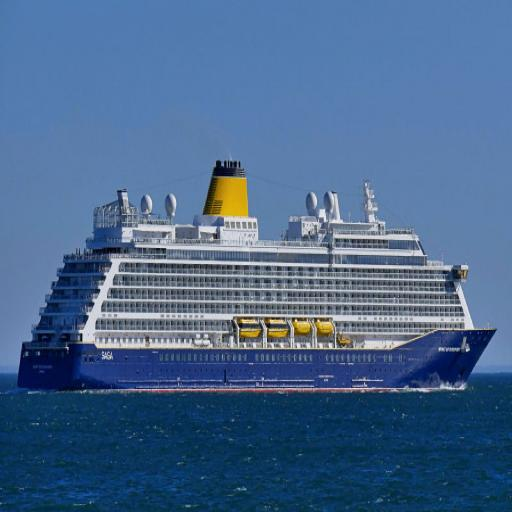cruises: (16, 154, 503, 402)
